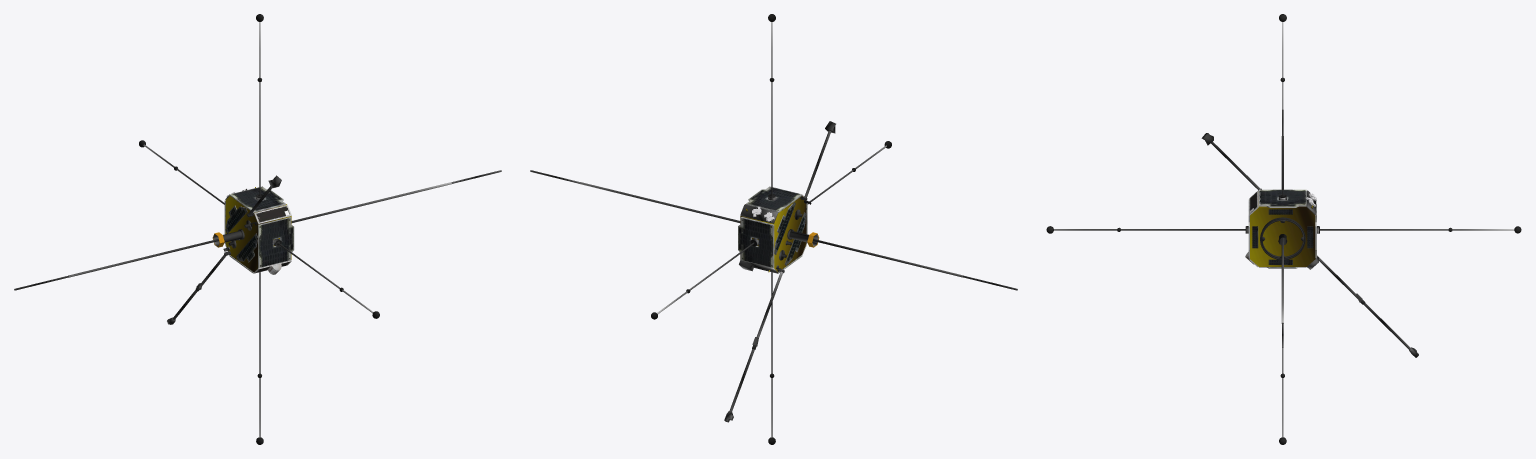
The model's file is themis.glb.
The picture shows the model from 3 angles, left to right: view 1: azimuth 30°, elevation 25°; view 2: azimuth 150°, elevation 25°; view 3: azimuth 270°, elevation 25°; orthographic projection.
Visible parts, largest first — view 1: shiny_panel, foil_silver, foil_gold; view 2: foil_silver, shiny_panel, foil_gold; view 3: foil_silver, foil_gold, shiny_panel.
Boxes of the visible parts, box(x1,y1,x2,y2) form: shiny_panel: box(212, 186, 294, 274); foil_silver: box(14, 14, 501, 444); foil_gold: box(225, 187, 291, 272); foil_silver: box(530, 14, 1017, 444); shiny_panel: box(738, 186, 819, 273); foil_gold: box(740, 196, 806, 272); foil_silver: box(1046, 14, 1521, 444); foil_gold: box(1250, 191, 1315, 266); shiny_panel: box(1245, 189, 1316, 268).
Size of the model in its own units: 1 by 0.8446 by 0.8451.
Materials: 3 (3 with a texture image).
